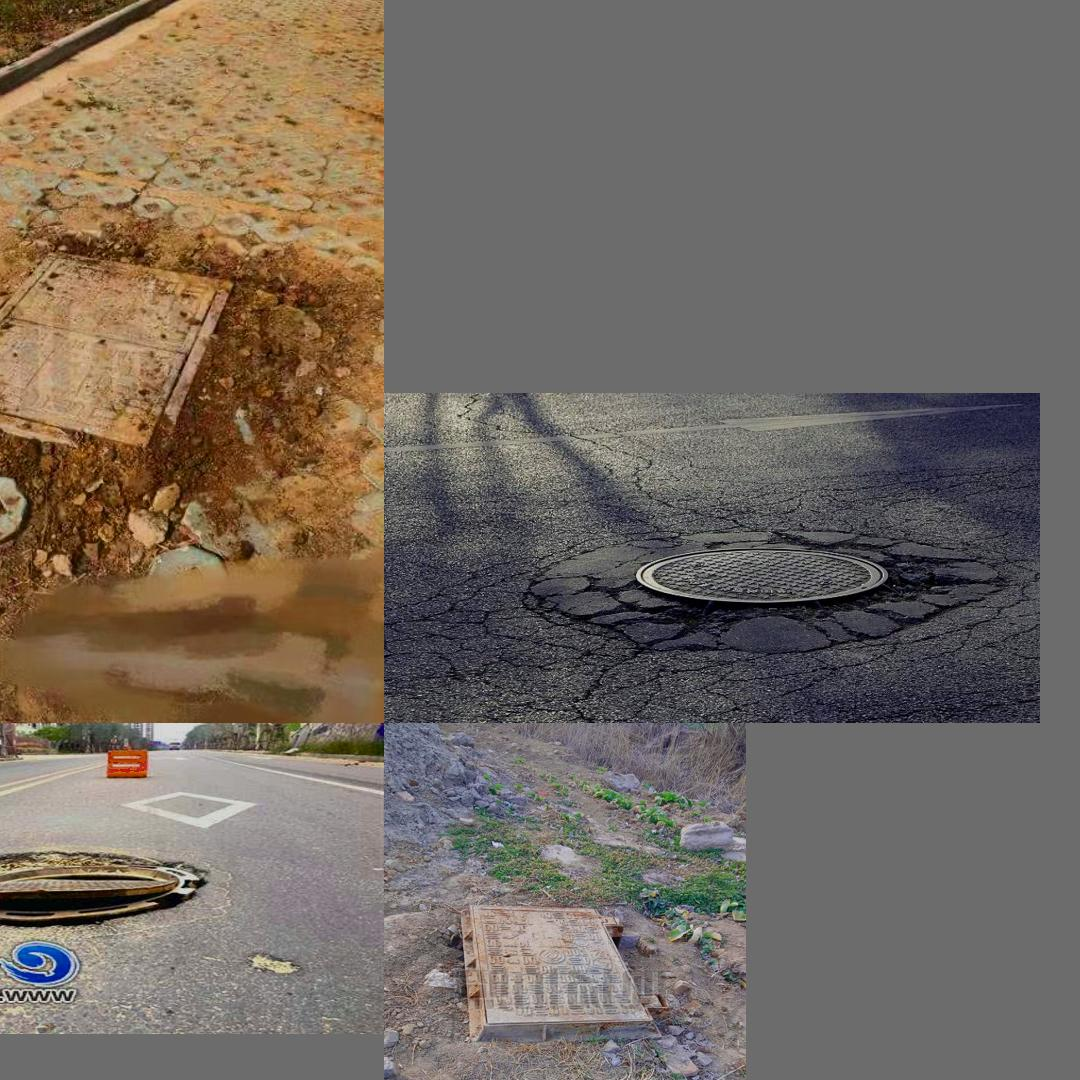circle: (509, 525, 958, 669), (0, 246, 260, 485), (453, 900, 669, 1045), (0, 842, 271, 944)
